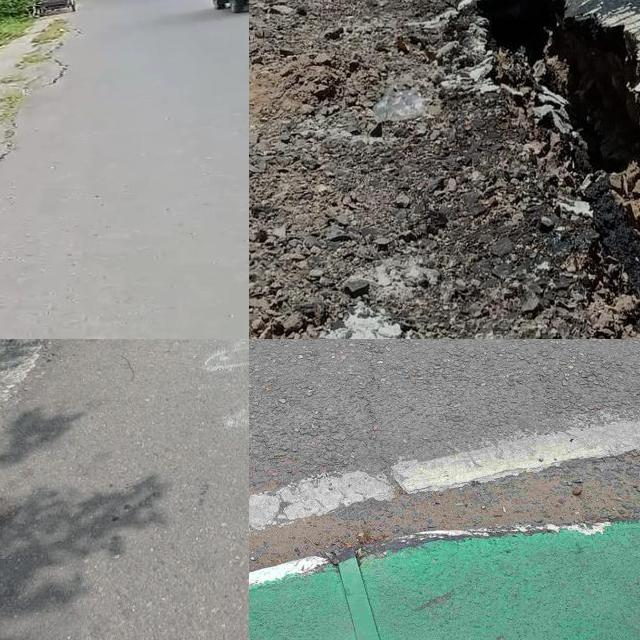Memanjang: (345, 339, 411, 499)
Pinggir: (416, 0, 640, 264), (0, 0, 113, 165)
